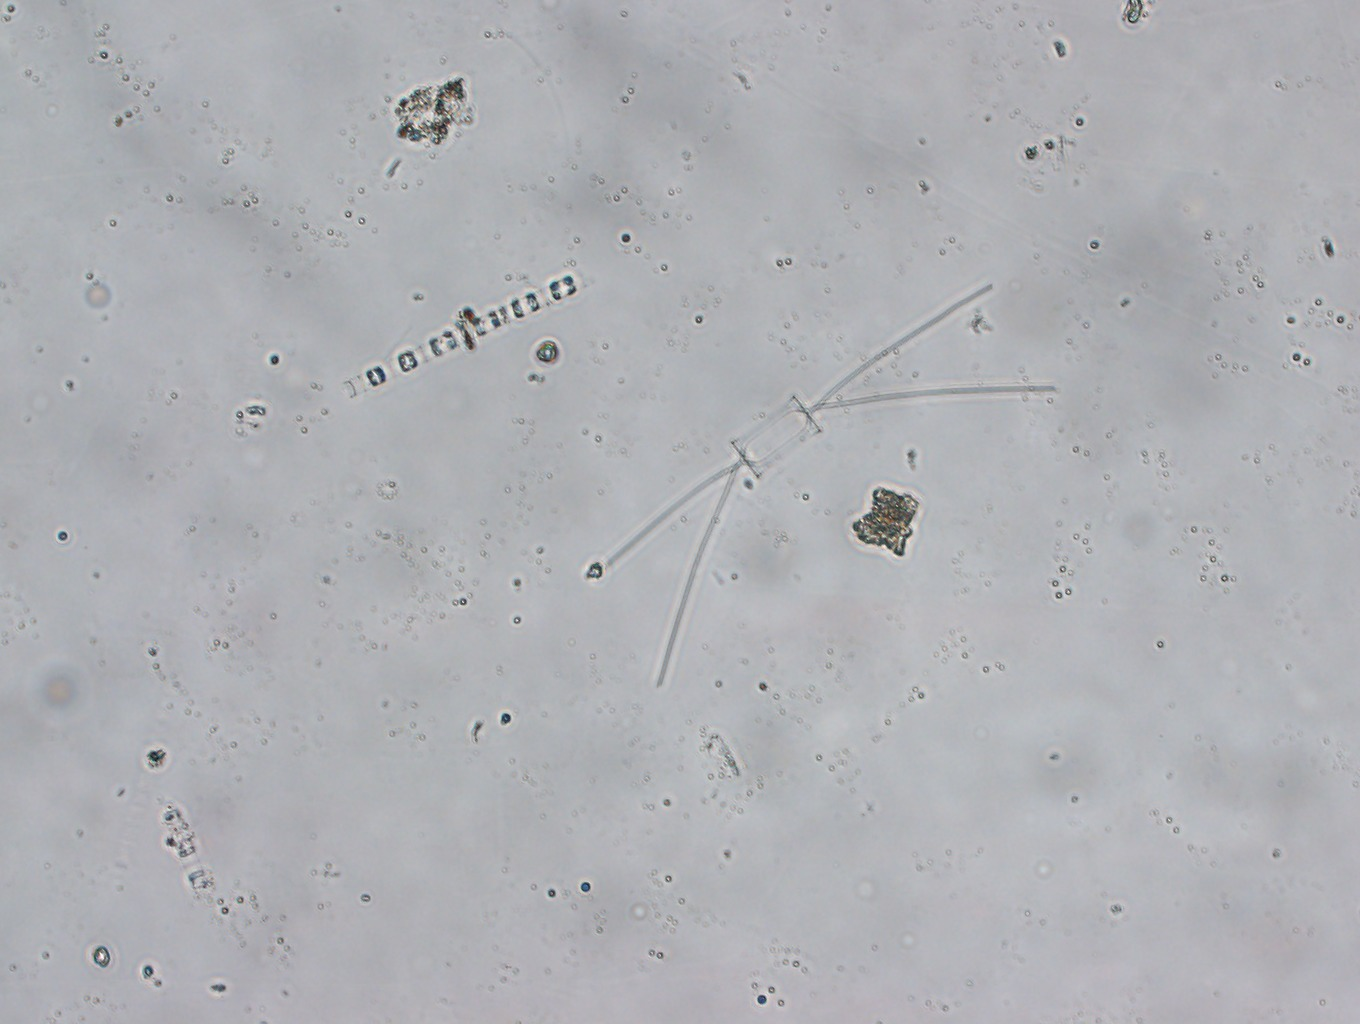chaetoceros: (605, 284, 1057, 687)
skeletonema: (335, 270, 588, 402)
